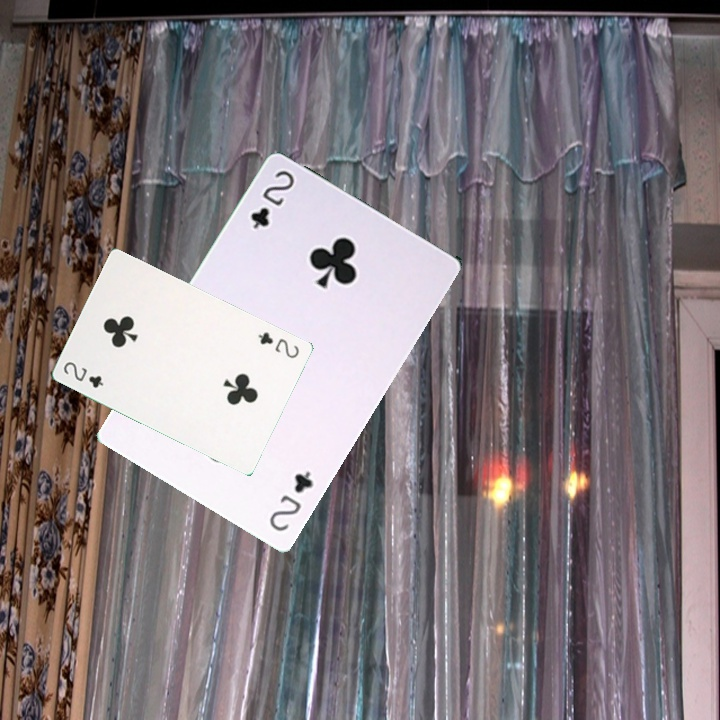2c: (246, 166, 298, 232), (265, 467, 316, 534), (59, 357, 106, 391), (254, 328, 302, 361)
